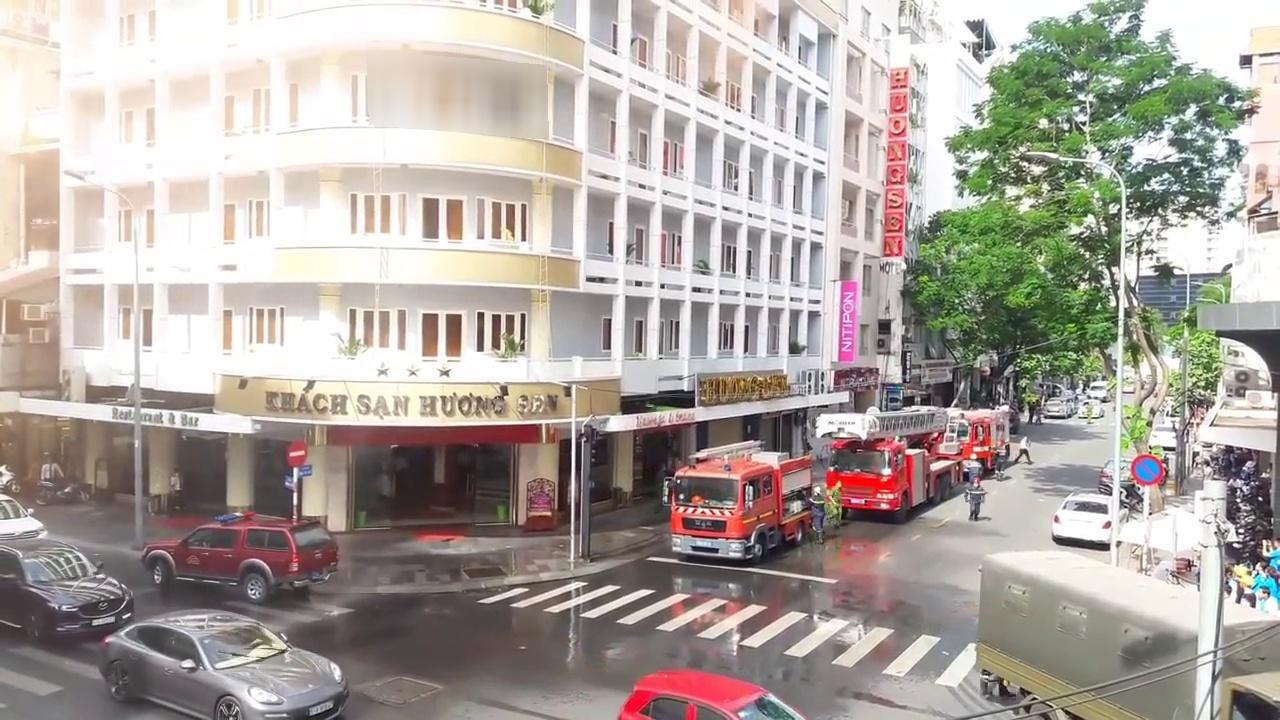xe cuu hoa: (665, 443, 817, 562), (813, 409, 964, 518), (937, 403, 1014, 473)
xe hoi: (85, 608, 348, 720), (147, 506, 343, 593), (0, 536, 127, 650), (616, 668, 805, 719), (1052, 492, 1120, 545)
xe tai: (974, 547, 1280, 720)
